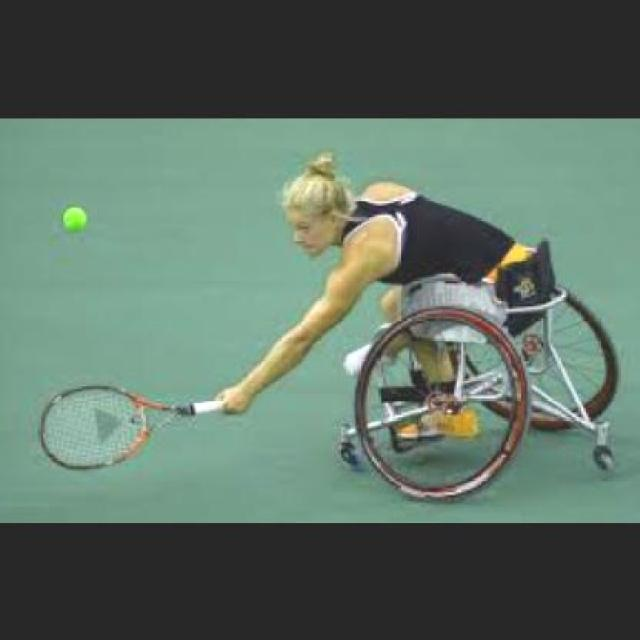wheelchairs: (325, 243, 630, 514)
